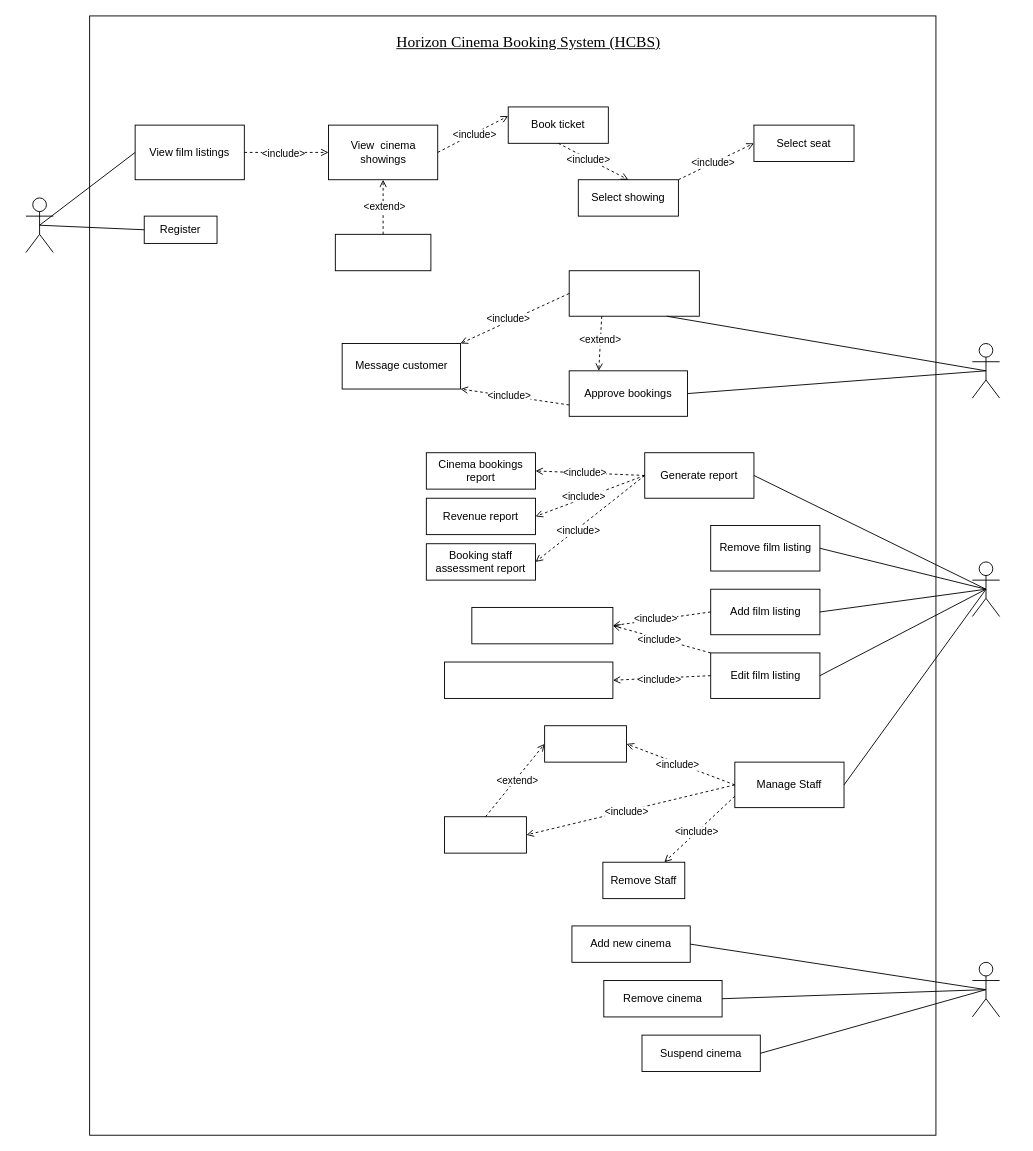
Some shapes in this 1033 by 1151 pixel diagram are drawn without their labels. Here are the shapes that lost their labels. From the top down, the box of each, then its label:
(25, 197, 53, 253): Customer
(334, 233, 431, 271): Specify Date
(568, 270, 699, 316): Cancel/Reject bookings
(971, 343, 1000, 398): Booking staff
(971, 561, 1000, 617): Admin
(471, 607, 613, 644): Add/Edit listing metadata
(444, 661, 613, 698): Change showtime/screening
(544, 725, 627, 762): Add Staff
(444, 816, 526, 853): Edit Staff Details
(971, 961, 1000, 1017): Manager
